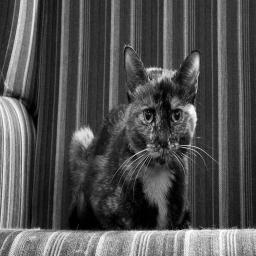catnose: (156, 136, 170, 150)
